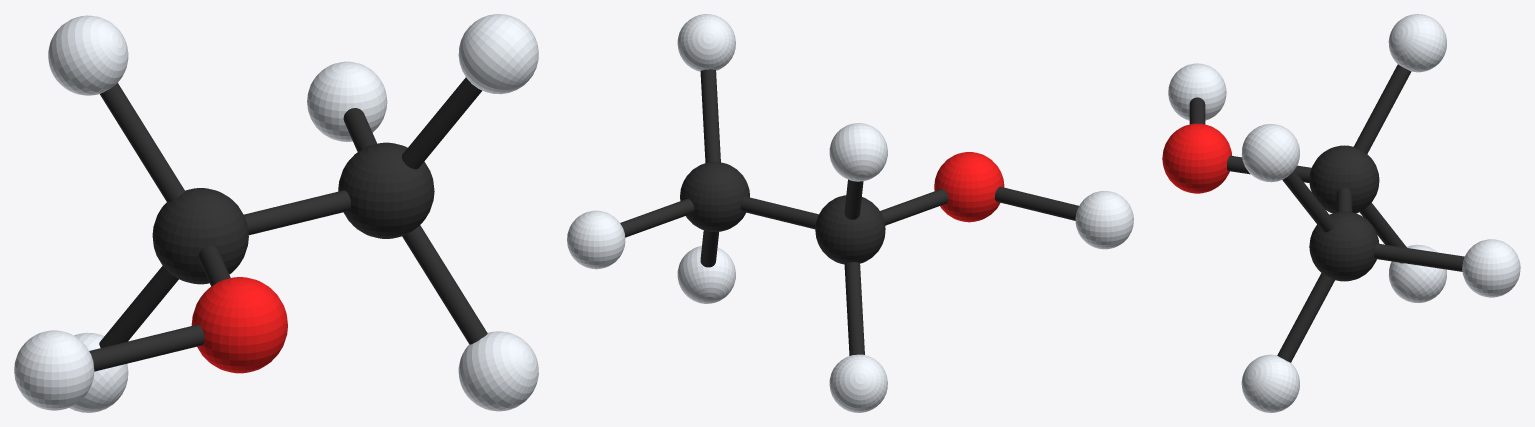
Rendered from ethanol.fbx.
3 renders of one model, left to right at view 1: azimuth 30°, elevation 25°; view 2: azimuth 150°, elevation 25°; view 3: azimuth 270°, elevation 25°, orthographic. The views are drawn at different scales.
Parts seen in each view (by area): view 1: alkanoles; view 2: alkanoles; view 3: alkanoles.
Part boxes in pixels (x1,y1,x2,y2): alkanoles: (14,14,538,412); alkanoles: (567,14,1133,412); alkanoles: (1162,14,1520,412).
Size of the model in its own units: 243 by 161 by 184.
